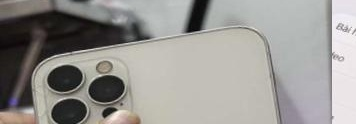physical_damage: (27, 30, 316, 124)
